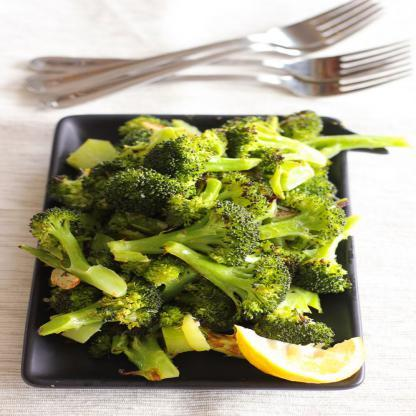broccoli: (16, 109, 409, 382)
